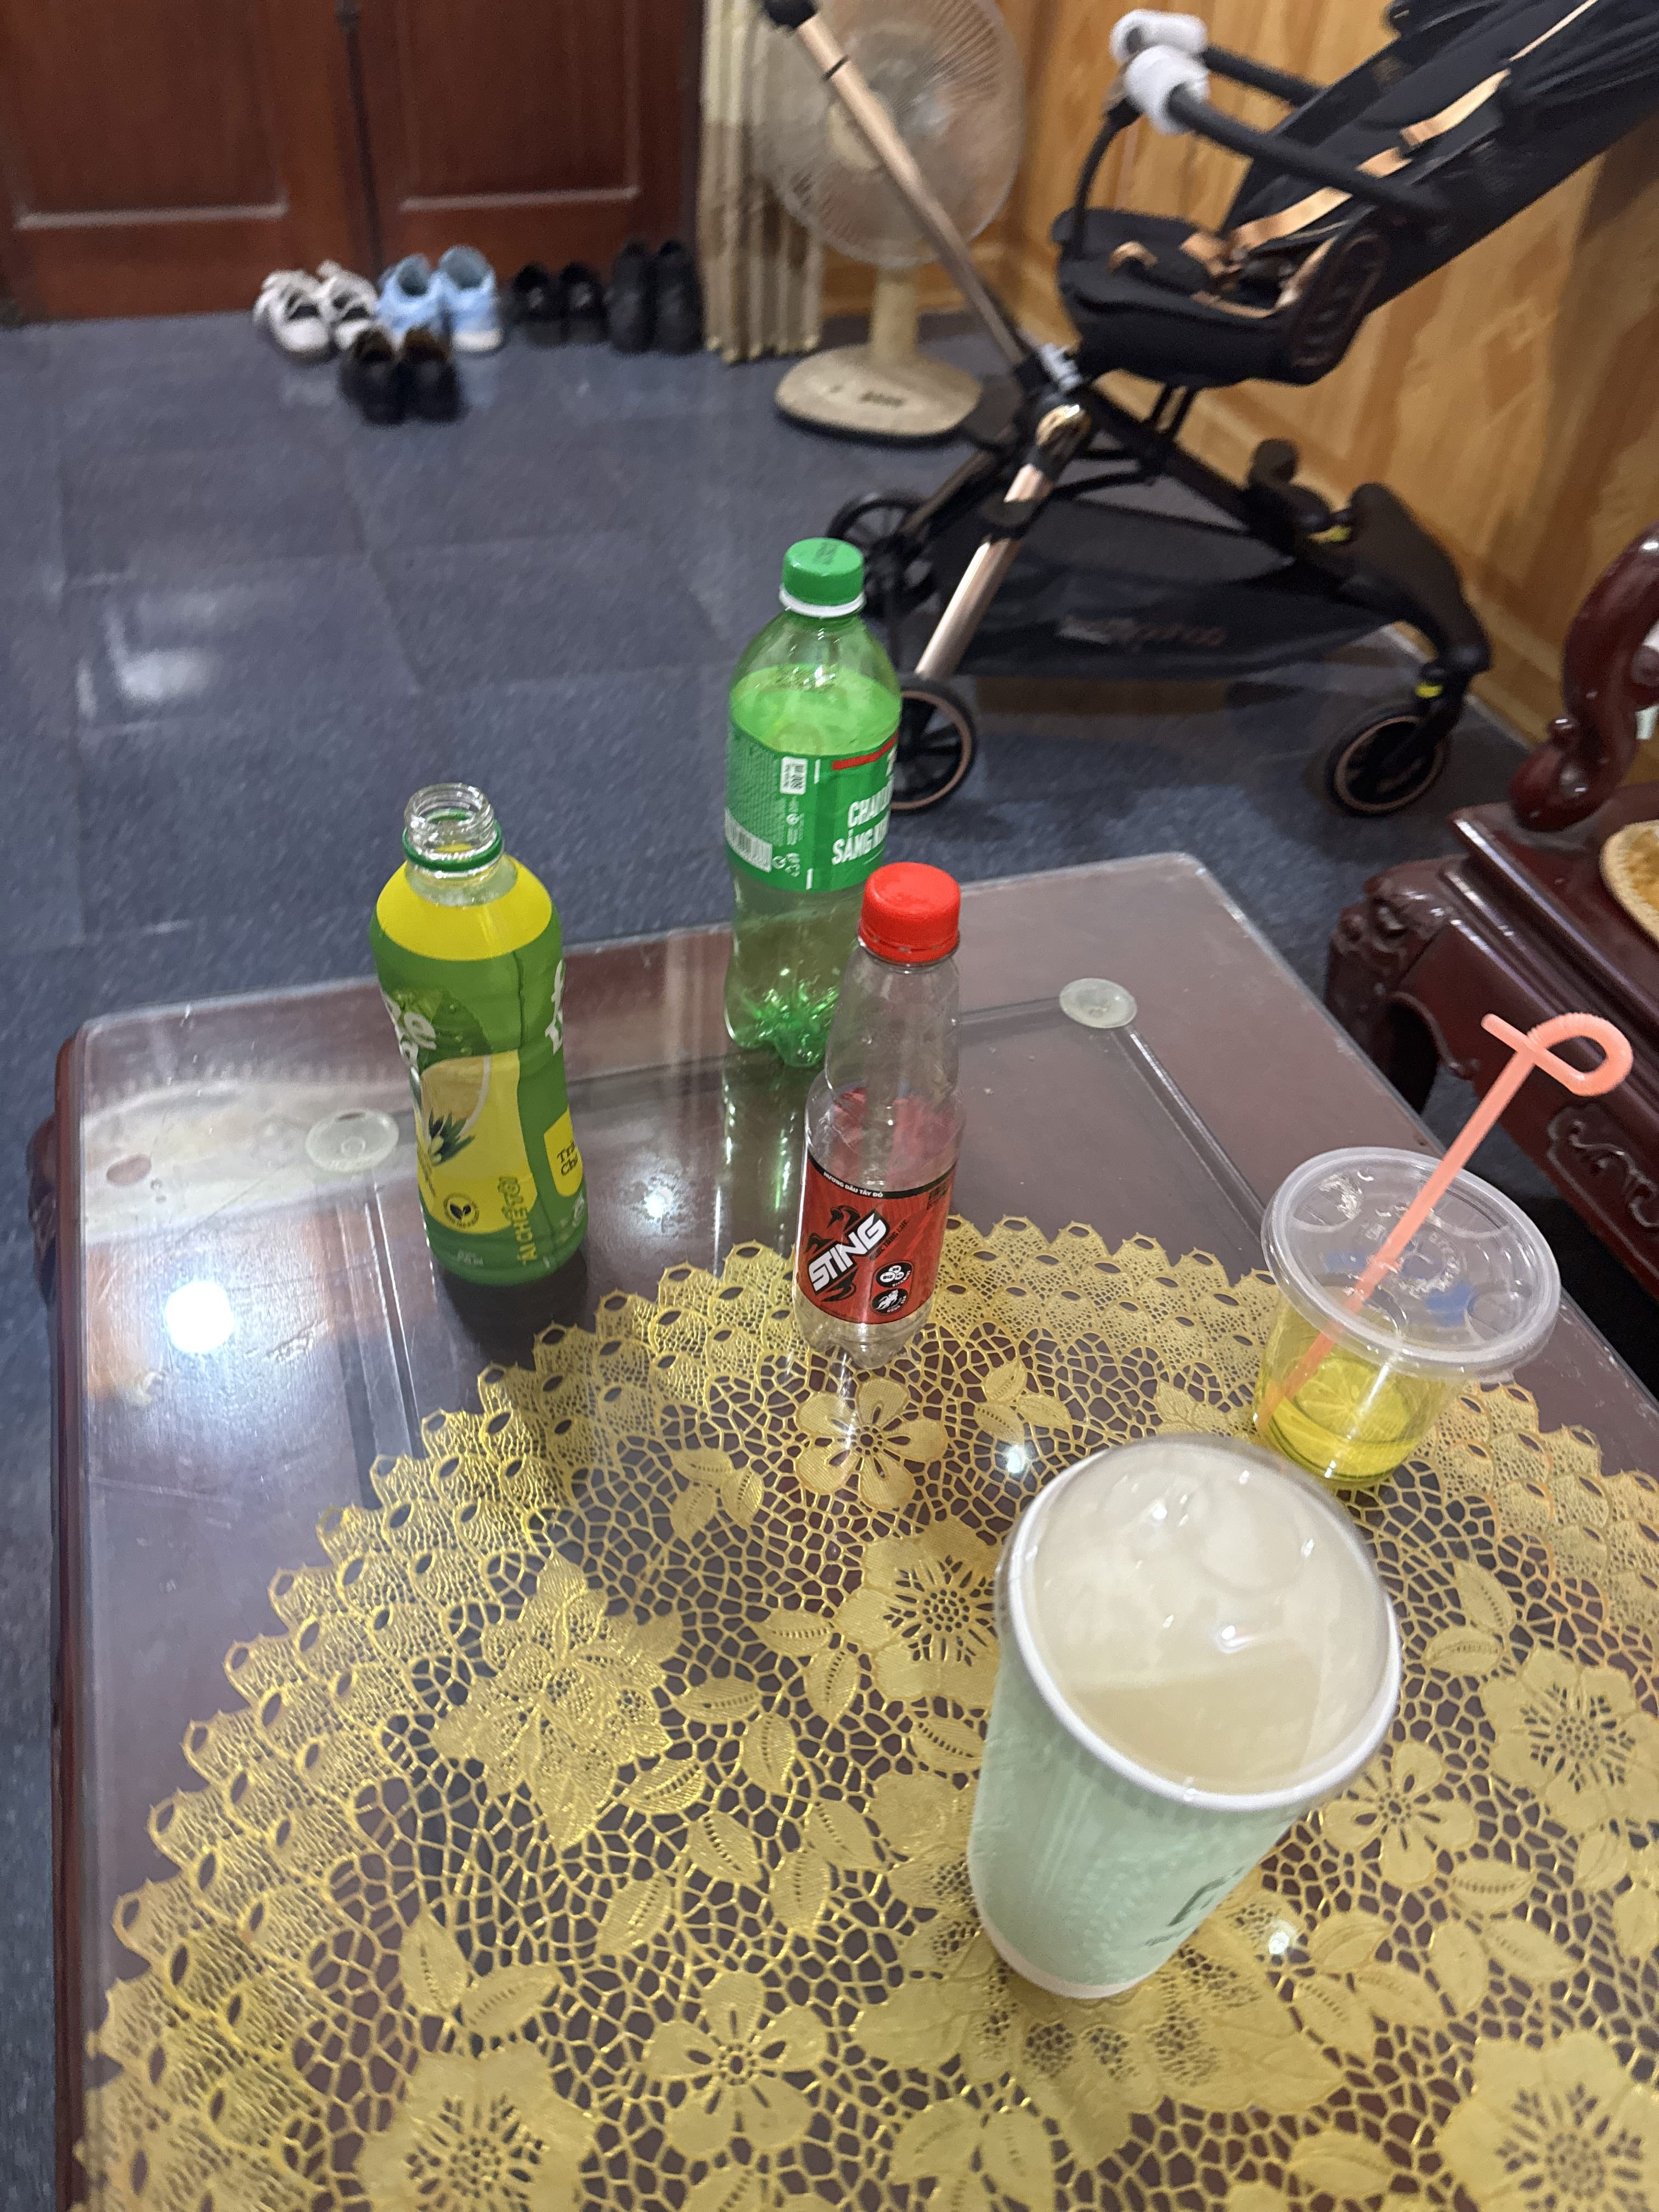2: (941, 1393, 1427, 2069), (1202, 1116, 1595, 1534)
bottle: (725, 846, 1072, 1416), (331, 740, 650, 1353), (692, 505, 934, 1096)
